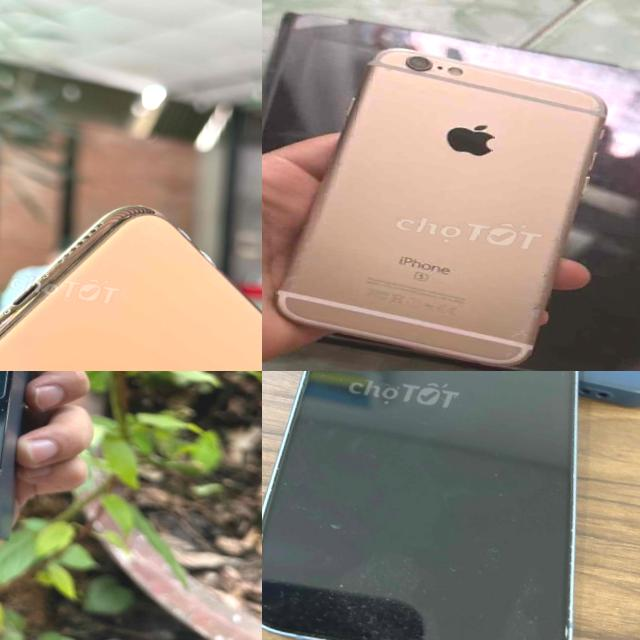scratch: (490, 177, 595, 371), (262, 207, 337, 325), (48, 204, 118, 280), (544, 78, 640, 132), (475, 464, 535, 526), (0, 385, 23, 502), (171, 223, 222, 263), (304, 506, 359, 540)
